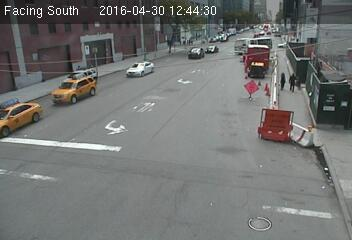neg: (205, 124, 221, 145), (131, 144, 145, 162), (188, 51, 200, 66), (144, 93, 155, 108), (220, 47, 230, 61)
pos: (286, 72, 301, 93), (274, 69, 288, 88)
